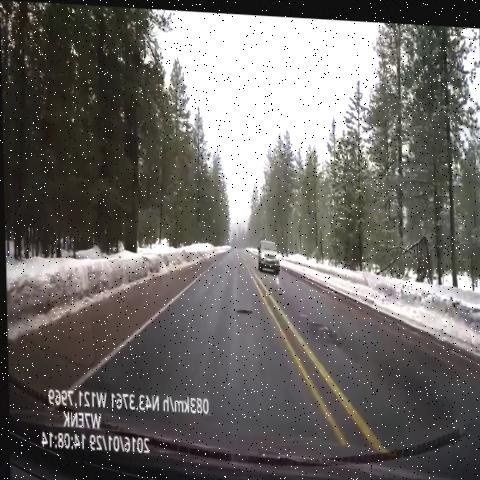pothole: (301, 304, 337, 353), (224, 294, 259, 330)
